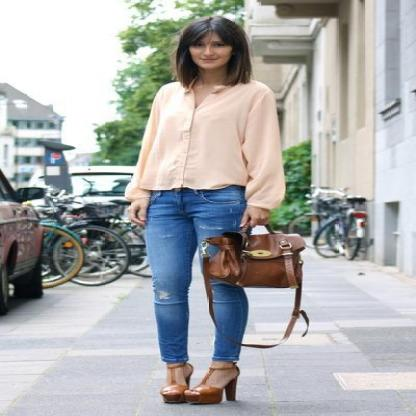bag: (197, 230, 309, 348)
pants: (127, 184, 263, 362)
shirt: (112, 81, 286, 207)
shoe: (161, 361, 239, 404)
